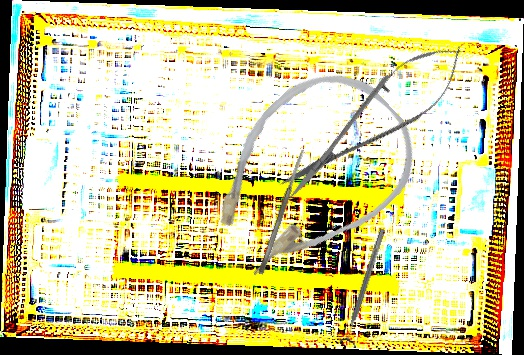Cannula: (177, 46, 439, 304)
Fixation Ring: (338, 226, 392, 349)
Micro Scissor: (265, 27, 480, 215)
Spatula Surgical: (257, 147, 307, 276)
